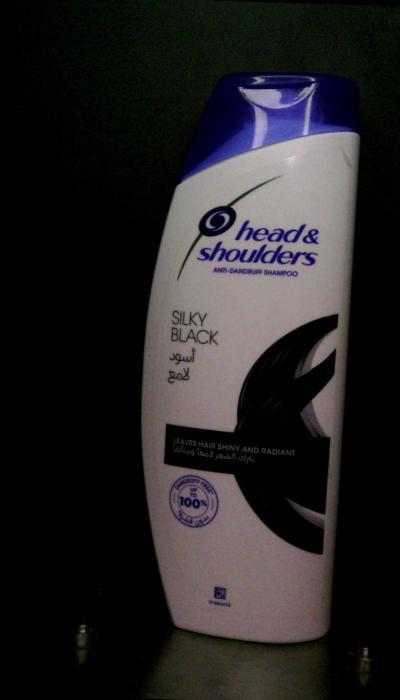adhesion_marg: (328, 134, 358, 182)
